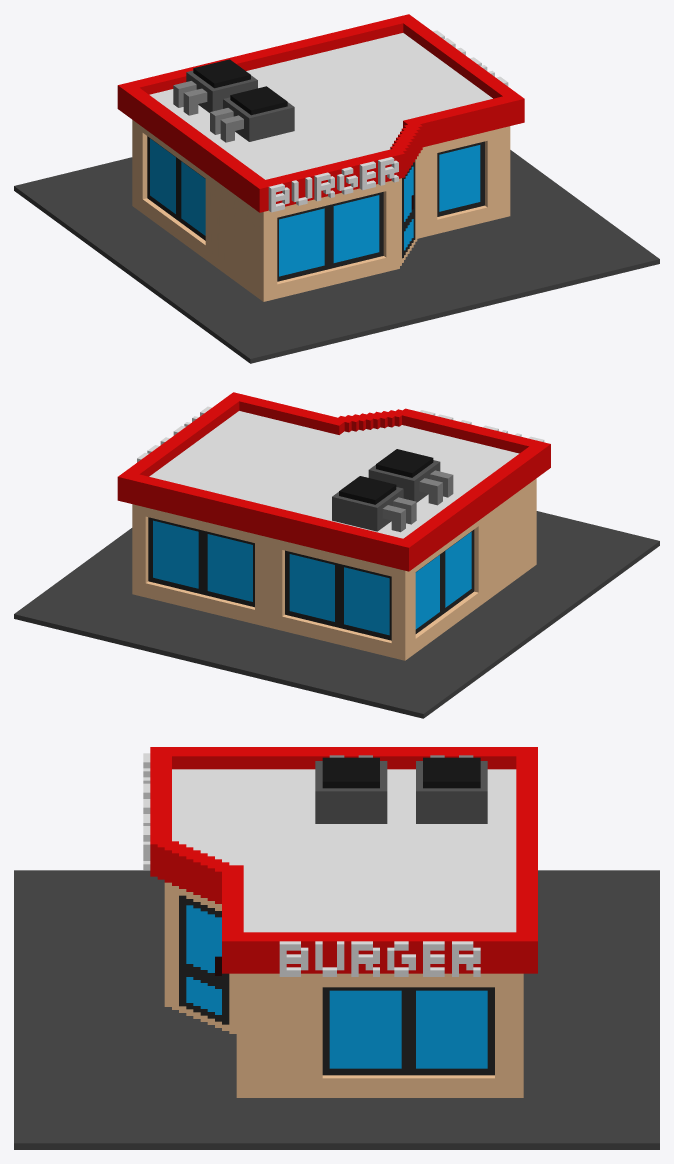
The model's file is Burger.obj.
3 views of the same model, one above another, from view 1: azimuth 30°, elevation 25°; view 2: azimuth 150°, elevation 25°; view 3: azimuth 270°, elevation 25° (orthographic). The views are drawn at different scales.
Size of the model in its own units: 9 by 3 by 9.
1 material, 1 textured.
